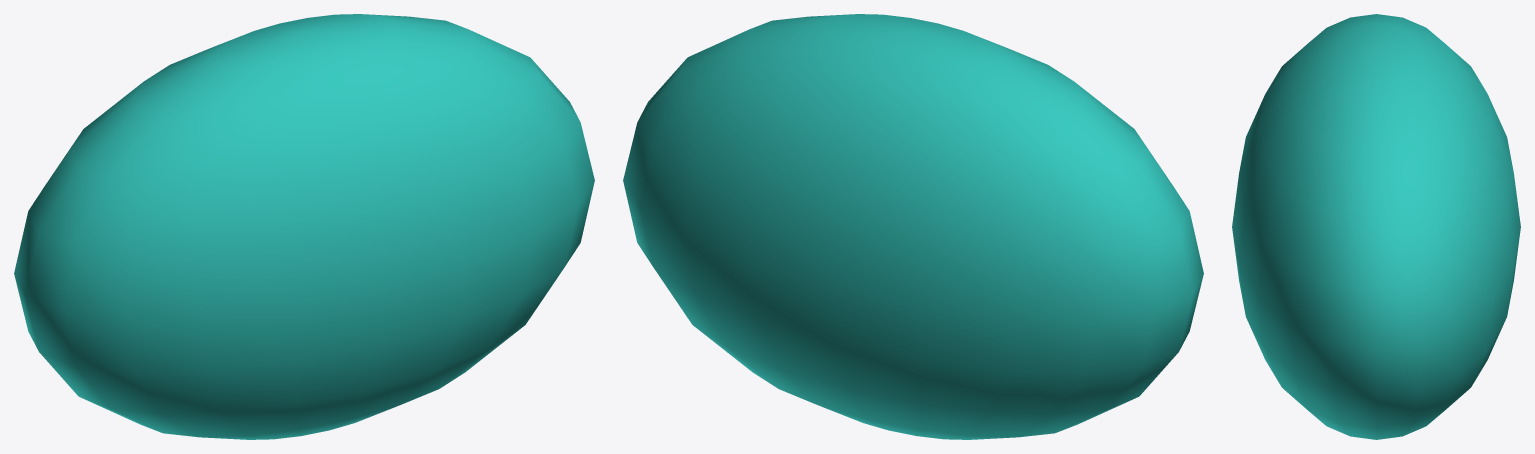
Rendered from ellipsoid-lite.glb.
The picture shows the model from 3 angles, left to right: view 1: azimuth 30°, elevation 25°; view 2: azimuth 150°, elevation 25°; view 3: azimuth 270°, elevation 25°; orthographic projection. The views are drawn at different scales.
Parts seen in each view (by area): view 1: Ellipsoid; view 2: Ellipsoid; view 3: Ellipsoid.
Boxes of the visible parts, x1=… form: Ellipsoid: x1=14, y1=14, x2=594, y2=439; Ellipsoid: x1=623, y1=14, x2=1203, y2=439; Ellipsoid: x1=1232, y1=14, x2=1520, y2=439.
Bounding box in the file's own units: 2.4 × 1.6 × 1.2.
